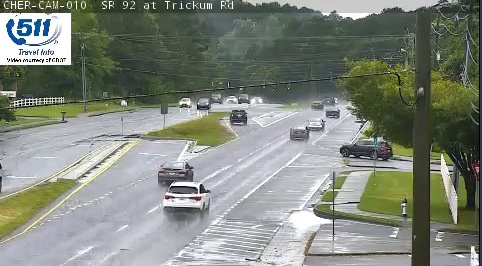car: (164, 181, 209, 211), (157, 160, 193, 183), (289, 125, 309, 141), (229, 109, 247, 123), (306, 117, 323, 130)
